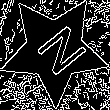N_SW: (23, 18, 86, 82)
